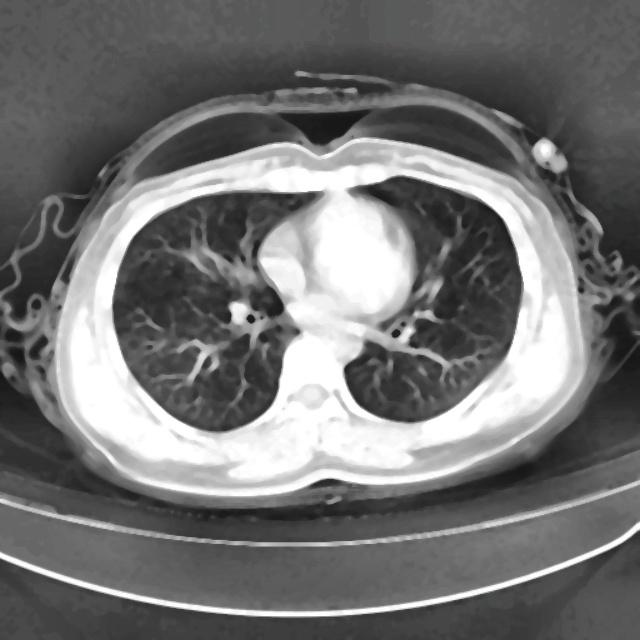covid: (1, 72, 637, 511)
